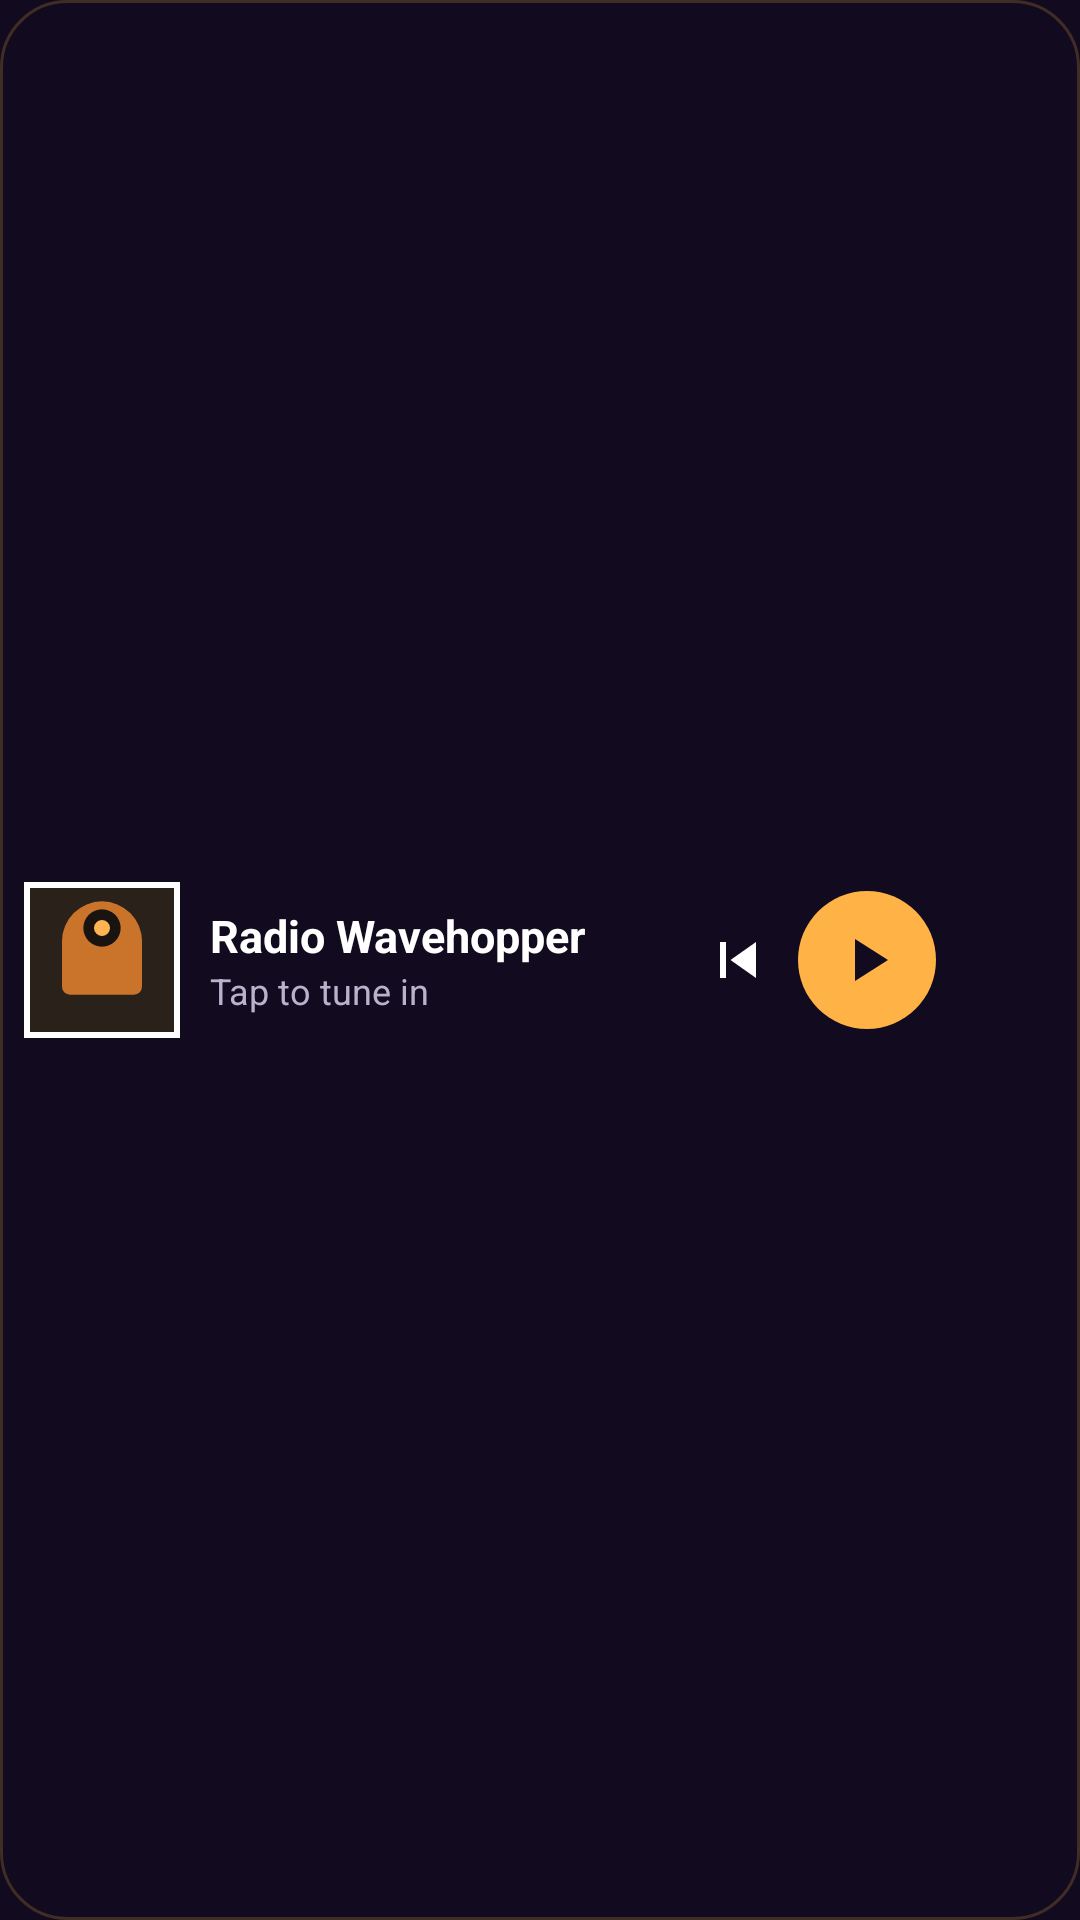

Screen size 1080px x 1920px. Icon name, then its box in pixels as bbox=[x1, y1, x2, y2]:
Play or pause: bbox=[798, 891, 936, 1029]
Previous station: bbox=[720, 942, 756, 978]
